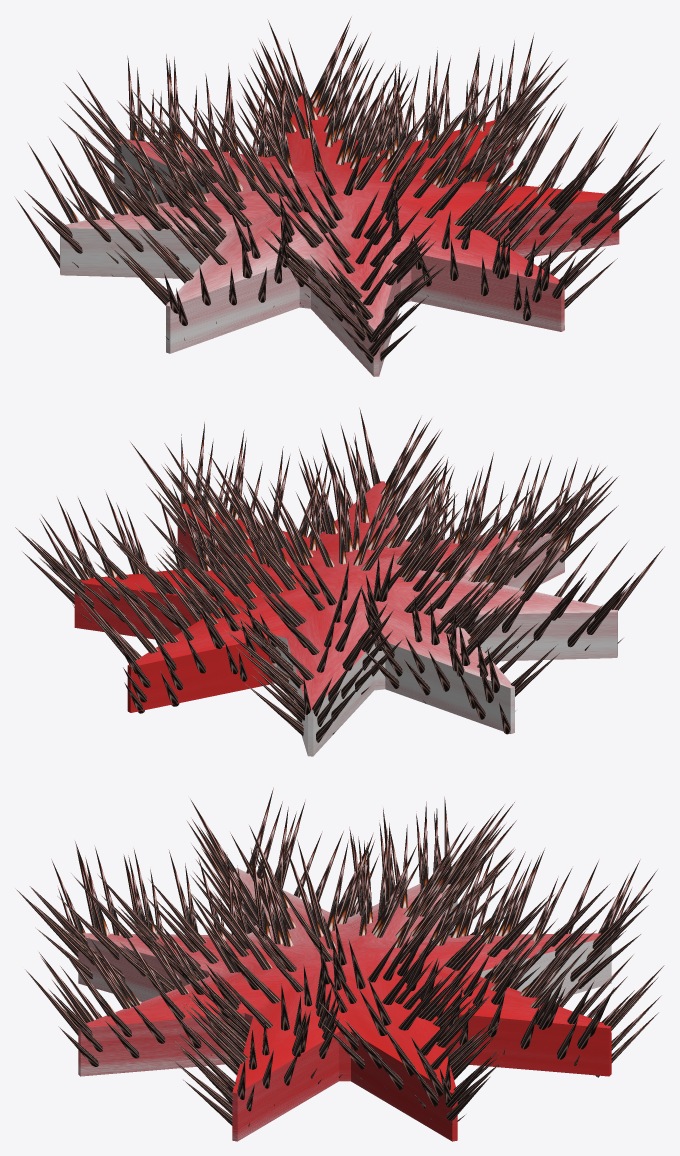
Rendered from EstrellaCorona.fbx.
3 views of the same model, one above another, from view 1: azimuth 30°, elevation 25°; view 2: azimuth 150°, elevation 25°; view 3: azimuth 270°, elevation 25° (orthographic). The views are drawn at different scales.
Visible parts, largest first — view 1: Cylinder; view 2: Cylinder; view 3: Cylinder.
Part boxes in pixels (x1,y1,x2,y2): Cylinder: (14,16,664,376); Cylinder: (15,407,664,756); Cylinder: (15,787,664,1141).
Bounding box in the file's own units: 33.96 × 8.81 × 34.78.
2 materials, 2 textured.
